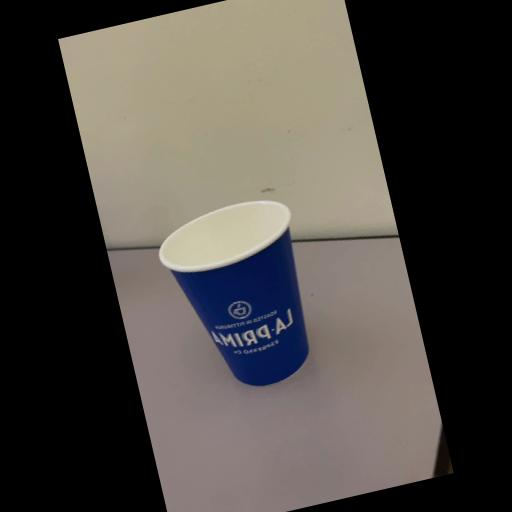lp_paper_cup: (149, 190, 334, 403)
